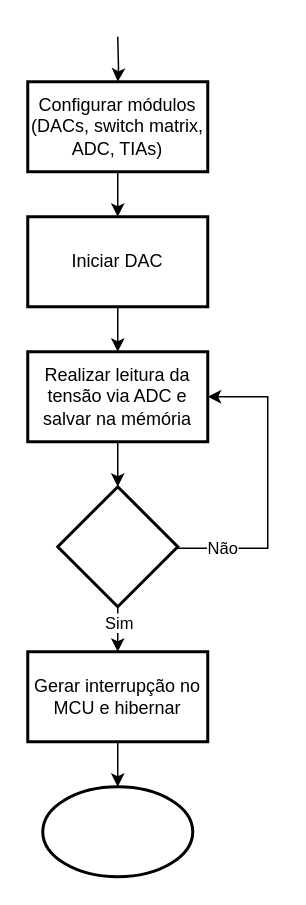
This 306x905 diagram has some shape labels left out. Here are the shapes that lost their labels. From the top down, the centre of each, then its label:
At pixel 117 546: "Memória cheia?".
At pixel 117 831: "Fim".
